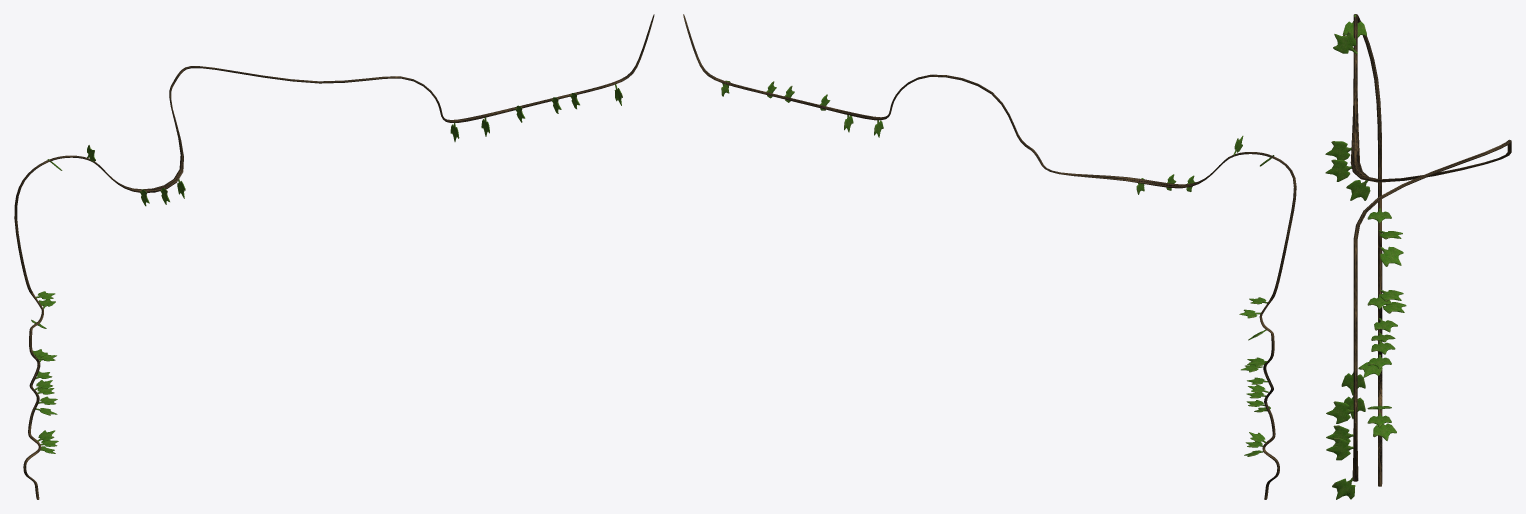
File: vine4.fbx
The picture shows the model from 3 angles, left to right: view 1: azimuth 30°, elevation 25°; view 2: azimuth 150°, elevation 25°; view 3: azimuth 270°, elevation 25°; orthographic projection. The views are drawn at different scales.
Visible parts, largest first — view 1: vine4_stem10; view 2: vine4_stem10; view 3: vine4_stem10, vine4_leaf77, vine4_leaf85, vine4_leaf83, vine4_leaf79, vine4_leaf80, vine4_leaf86, vine4_leaf73, vine4_leaf78, vine4_leaf81, vine4_leaf62, vine4_leaf84 (+2 smaller).
Boxes of the visible parts, <box> form: vine4_stem10: <box>14,14,654,499</box>; vine4_stem10: <box>683,14,1296,499</box>; vine4_stem10: <box>1350,14,1511,486</box>; vine4_leaf77: <box>1333,31,1357,54</box>; vine4_leaf85: <box>1326,437,1353,460</box>; vine4_leaf83: <box>1326,401,1353,423</box>; vine4_leaf79: <box>1325,159,1351,181</box>; vine4_leaf80: <box>1346,180,1370,200</box>; vine4_leaf86: <box>1332,477,1355,499</box>; vine4_leaf73: <box>1380,246,1403,266</box>; vine4_leaf78: <box>1325,141,1351,160</box>; vine4_leaf81: <box>1341,372,1365,395</box>; vine4_leaf62: <box>1373,423,1396,440</box>; vine4_leaf84: <box>1326,425,1353,442</box>.
Size of the model in its own units: 48.57 by 25.88 by 9.09.
